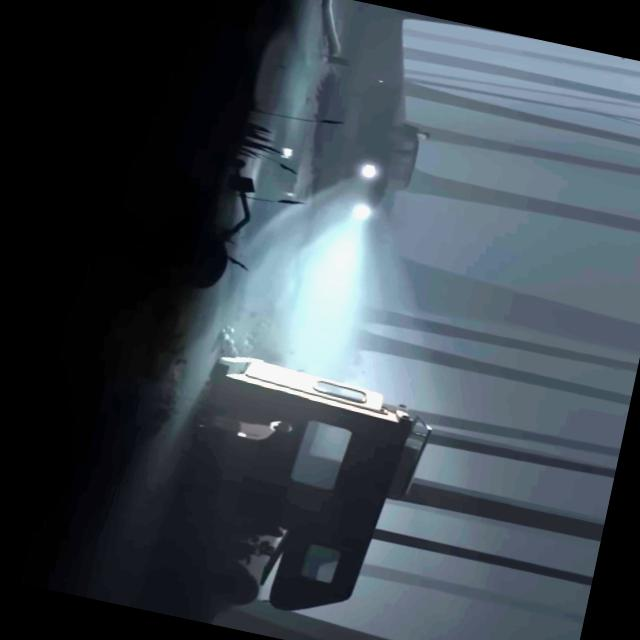boy: (186, 402, 292, 450)
